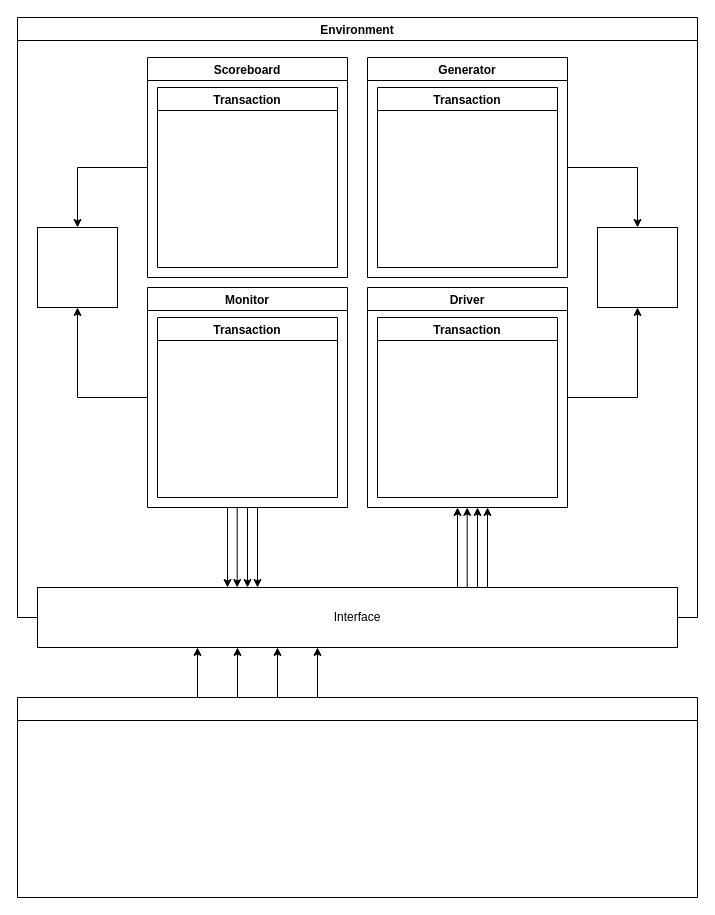
Some shapes in this 715 by 915 pixel diagram are drawn without their labels. Here are the shapes that lost their labels. From the top down, the centre of each, then its label:
At point 77,267: "T2S_mbox".
At point 637,267: "D2G_mbox".
At point 357,797: "Dut(Fnd_Pp)".
